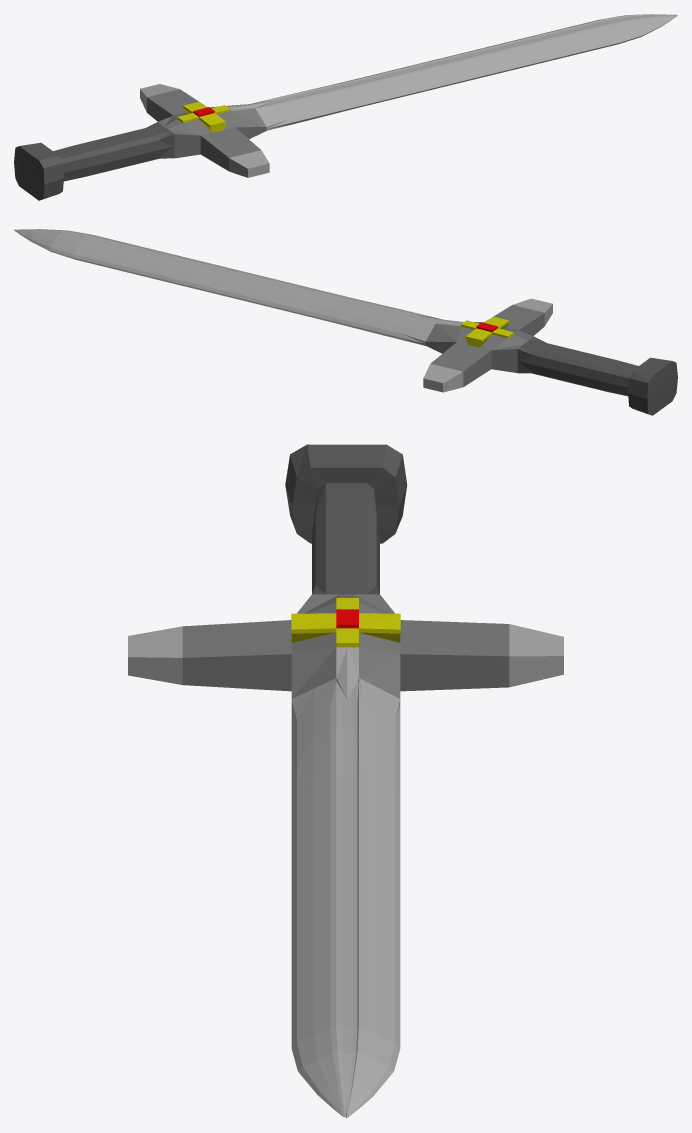
The model's file is sword.fbx.
The picture shows the model from 3 angles, top to bottom: view 1: azimuth 30°, elevation 25°; view 2: azimuth 150°, elevation 25°; view 3: azimuth 270°, elevation 25°; orthographic projection. The views are drawn at different scales.
Parts seen in each view (by area): view 1: sword; view 2: sword; view 3: sword.
Boxes of the visible parts, x1=… form: sword: x1=14, y1=14, x2=677, y2=200; sword: x1=14, y1=229, x2=677, y2=415; sword: x1=128, y1=444, x2=563, y2=1117.
Size of the model in its own units: 13.75 by 0.8171 by 4.
